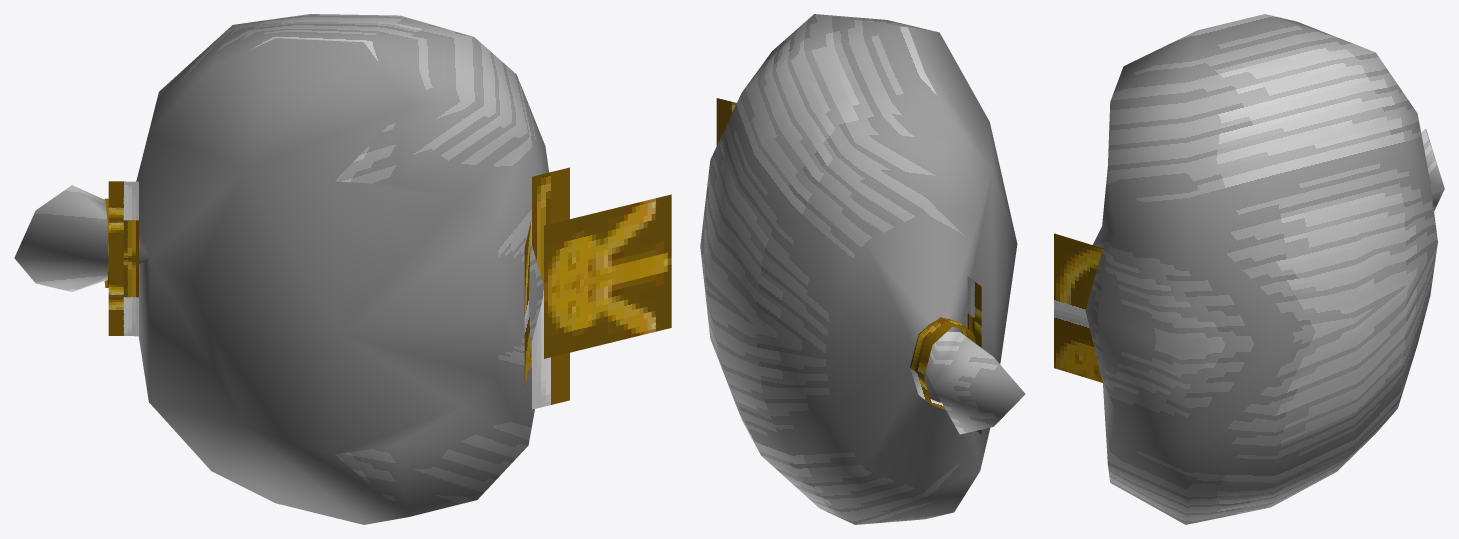
Rendered from hlmt_wig_ohinasama.dae.
The picture shows the model from 3 angles, left to right: view 1: azimuth 30°, elevation 25°; view 2: azimuth 150°, elevation 25°; view 3: azimuth 270°, elevation 25°; orthographic projection. The views are drawn at different scales.
Parts seen in each view (by area): view 1: hlmt_wig_ohinasama; view 2: hlmt_wig_ohinasama; view 3: hlmt_wig_ohinasama.
Part boxes in pixels (box(x1,y1,x2,y2)): hlmt_wig_ohinasama: box(14, 14, 671, 524); hlmt_wig_ohinasama: box(700, 14, 1025, 524); hlmt_wig_ohinasama: box(1054, 14, 1444, 524).
Bounding box in the file's own units: 34.41 × 32.4 × 24.88.
Materials: 2 (2 with a texture image).
